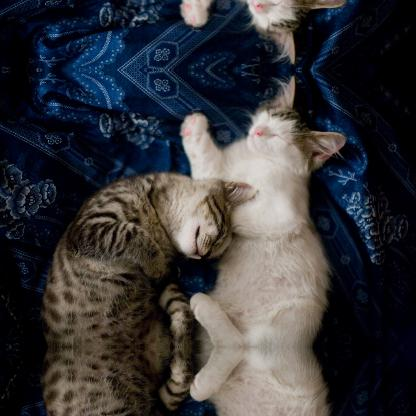Cat: (178, 72, 346, 346), (40, 169, 256, 345), (40, 347, 257, 415), (178, 346, 346, 415), (178, 0, 346, 66)
